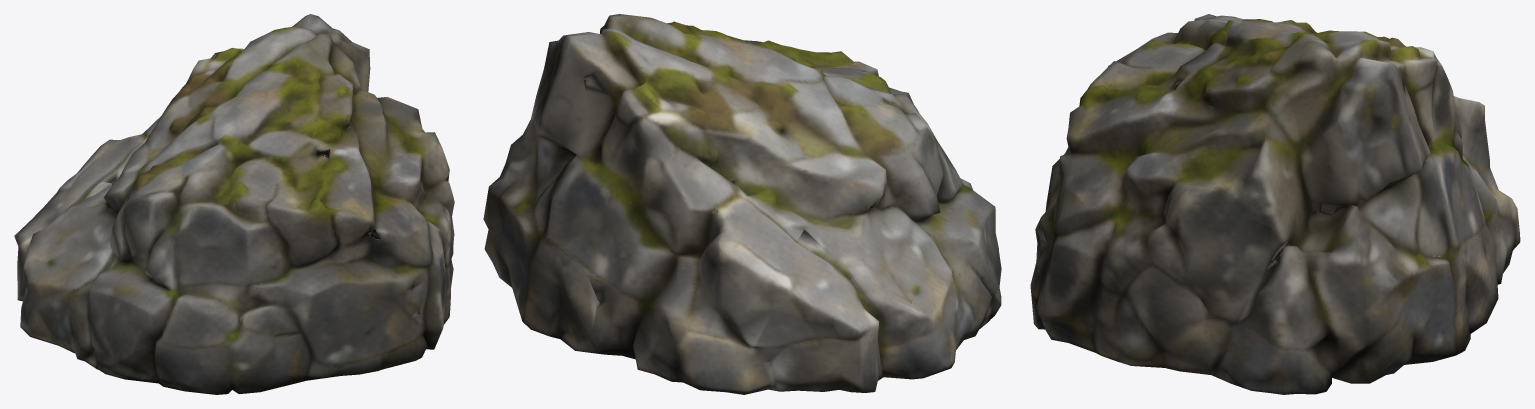
Rendered from cliff.glb.
3 renders of one model, left to right at view 1: azimuth 30°, elevation 25°; view 2: azimuth 150°, elevation 25°; view 3: azimuth 270°, elevation 25°, orthographic. The views are drawn at different scales.
Visible parts, largest first — view 1: MV_cliff; view 2: MV_cliff; view 3: MV_cliff.
Part boxes in pixels (x1,y1,x2,y2): MV_cliff: (14, 14, 454, 394); MV_cliff: (483, 14, 1001, 394); MV_cliff: (1030, 14, 1520, 394).
Size of the model in its own units: 4.88 by 2.8 by 4.3.
Materials: 1 (1 with a texture image).
